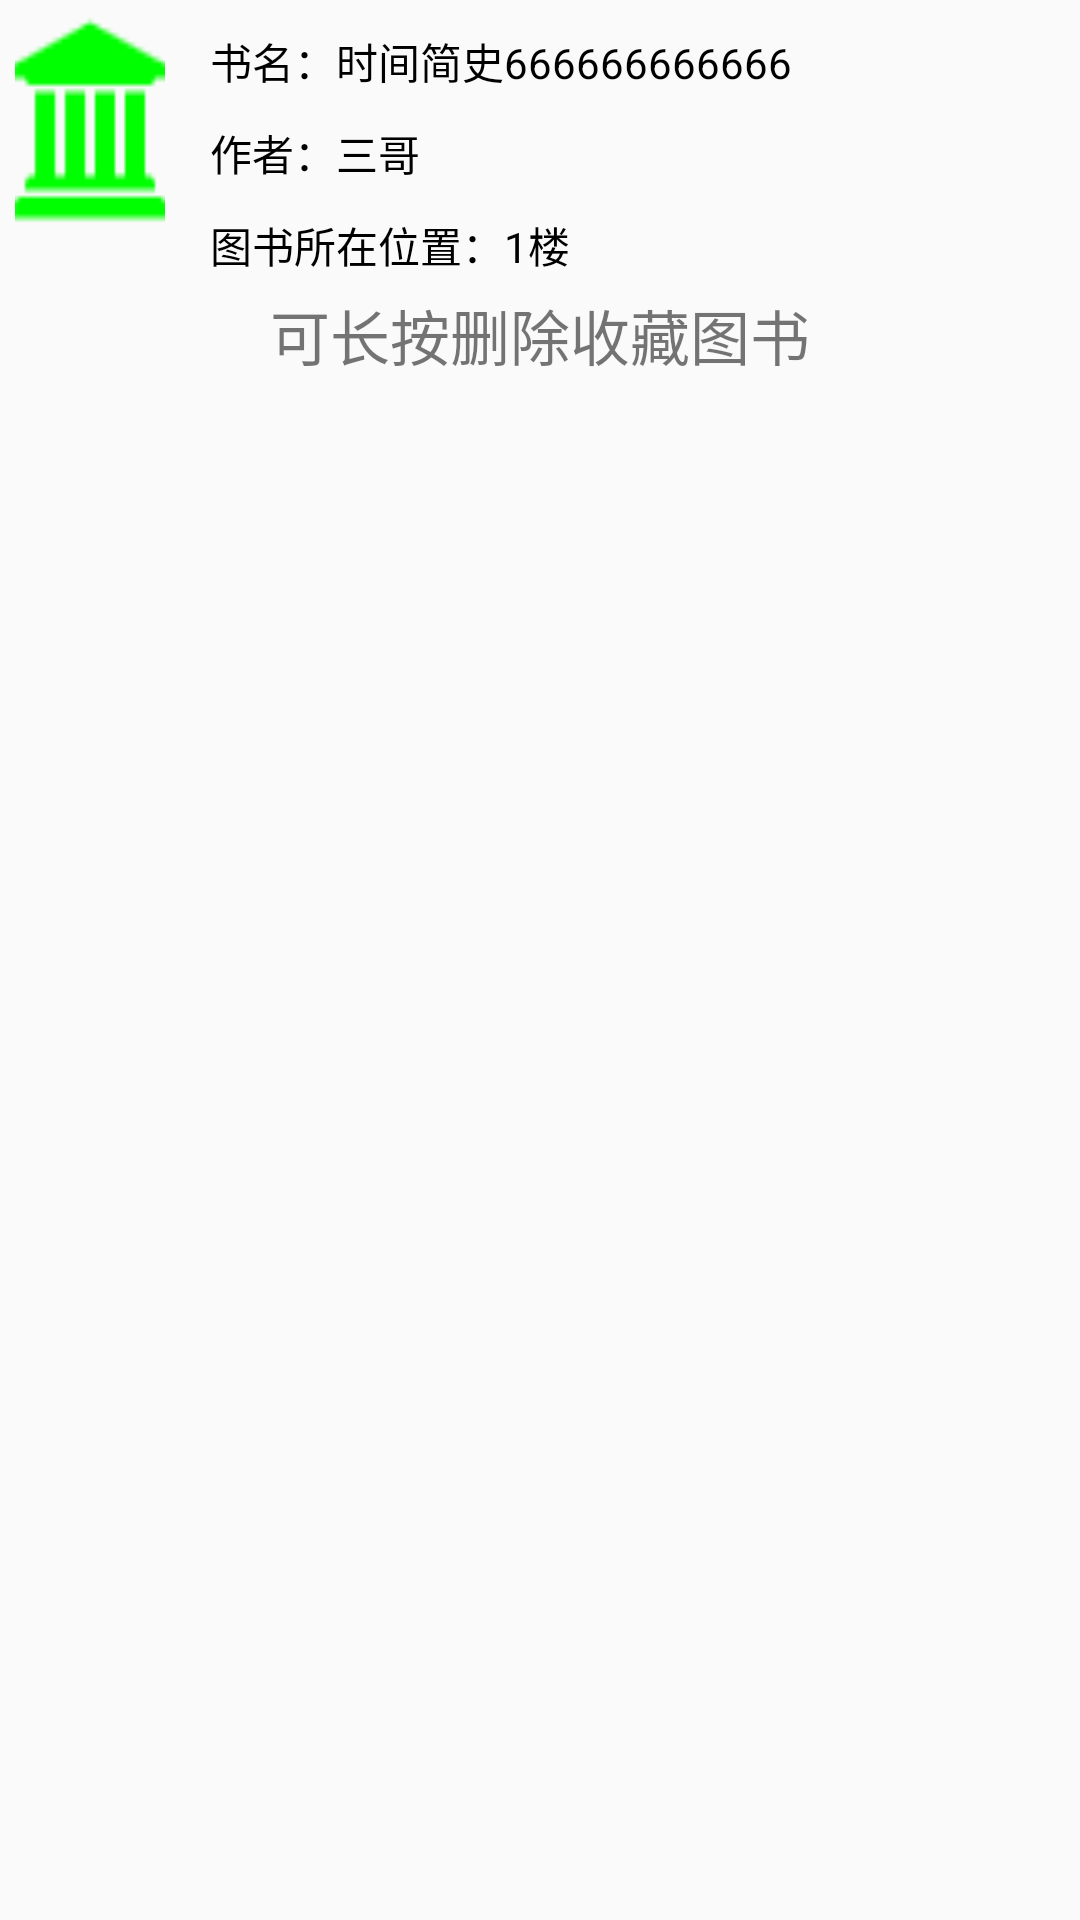

Where icons sit on this 1080px x 1920px app screen, as rect(x1, y1, x2, y2):
librarygreen: rect(15, 19, 165, 222)
